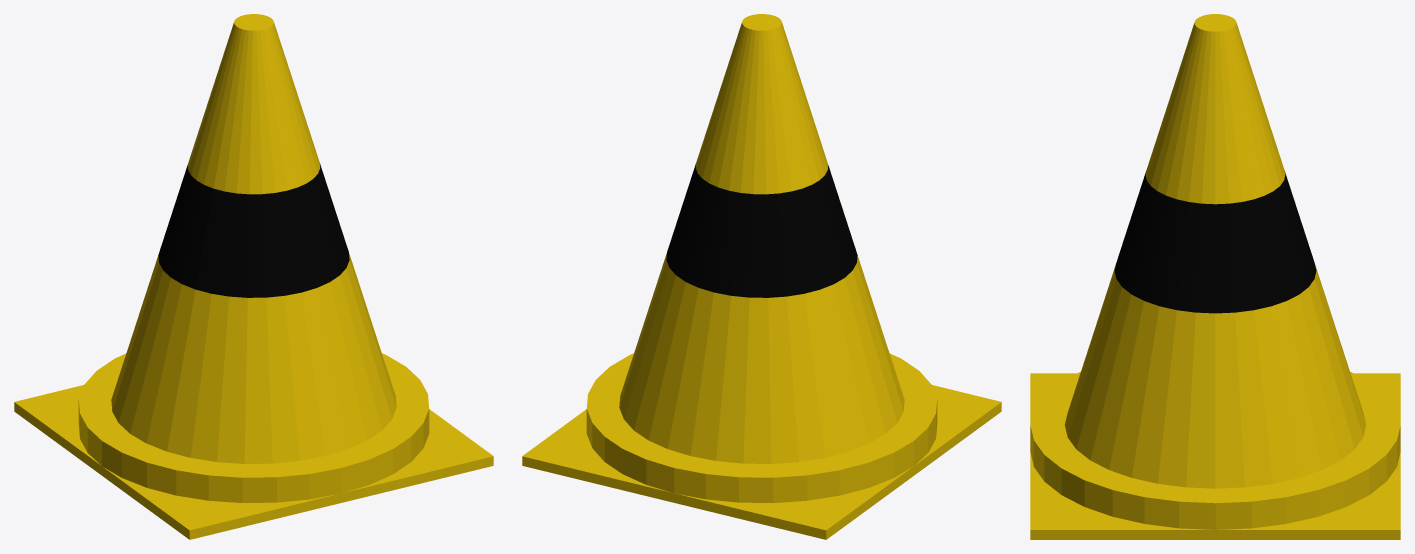
File: yellow_cone.dae
3 renders of one model, left to right at view 1: azimuth 30°, elevation 25°; view 2: azimuth 150°, elevation 25°; view 3: azimuth 270°, elevation 25°, orthographic. The views are drawn at different scales.
Visible parts, largest first — view 1: Cone, Base_Cylinder, Cone_Stripe, Base; view 2: Cone, Base_Cylinder, Cone_Stripe, Base; view 3: Cone, Base_Cylinder, Cone_Stripe, Base.
Part boxes in pixels (<box>): Cone: <box>111,14,396,463</box>; Base_Cylinder: <box>78,353,429,502</box>; Cone_Stripe: <box>158,164,349,297</box>; Base: <box>14,385,493,539</box>; Cone: <box>619,14,904,463</box>; Base_Cylinder: <box>586,353,937,502</box>; Cone_Stripe: <box>666,164,857,297</box>; Base: <box>522,385,1001,539</box>; Cone: <box>1065,14,1365,488</box>; Base_Cylinder: <box>1030,371,1400,532</box>; Cone_Stripe: <box>1114,171,1316,313</box>; Base: <box>1030,373,1400,539</box>.
Bounding box in the file's own units: 0.228 × 0.228 × 0.2982.
